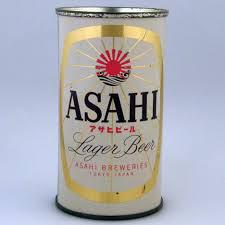beer: (51, 5, 171, 222)
